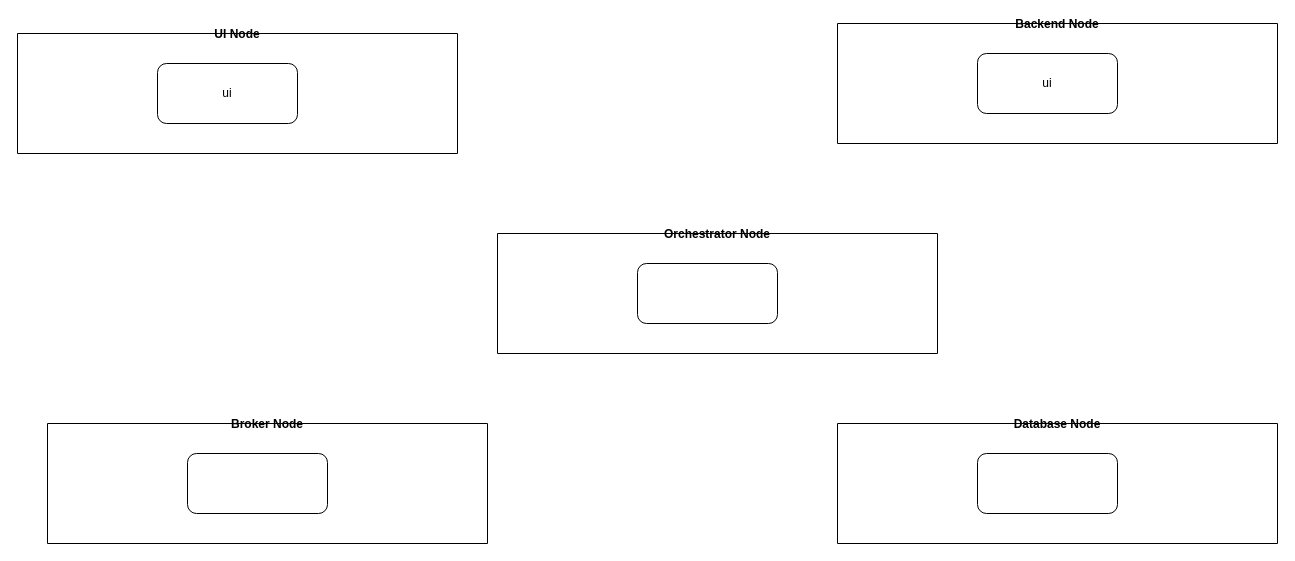
This 1295x561 diagram has some shape labels left out. Each missing label, with the centre of its shape:
db: point (1047, 483)
ibkr-gateway: point (257, 483)
orchestrator: point (707, 293)
